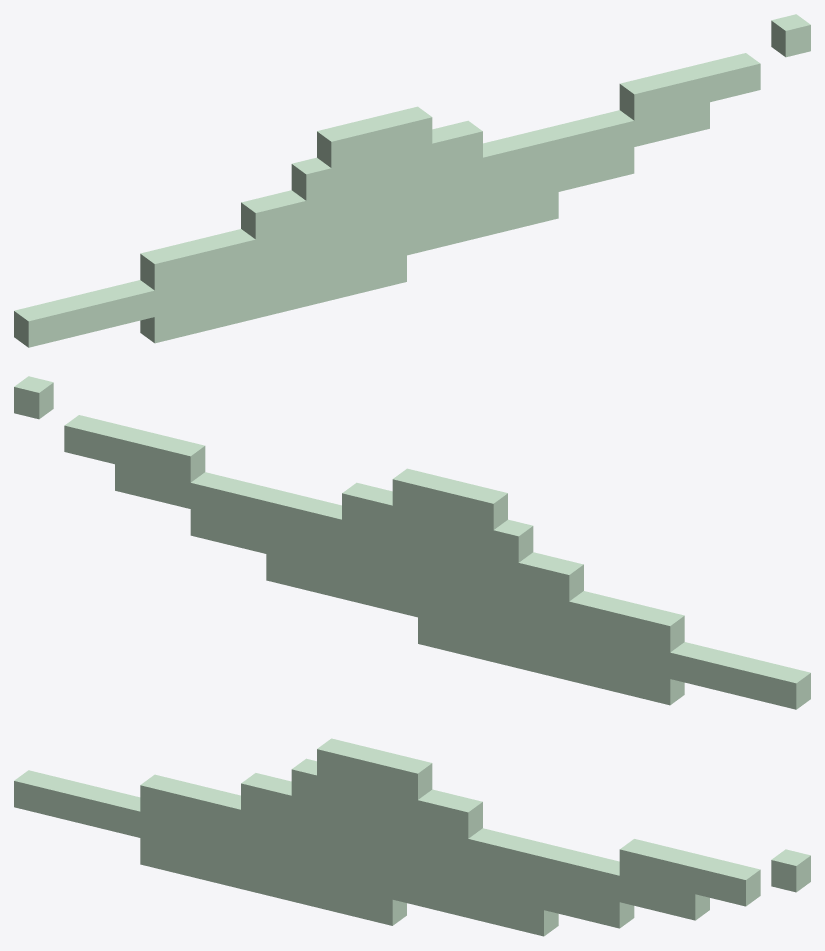
File: Fight_113_2_12_fx.obj
3 renders of one model, top to bottom at view 1: azimuth 30°, elevation 25°; view 2: azimuth 150°, elevation 25°; view 3: azimuth 330°, elevation 25°, orthographic.
Bounding box in the file's own units: 3.1 × 0.6 × 0.1.
Materials: 1 (1 with a texture image).
